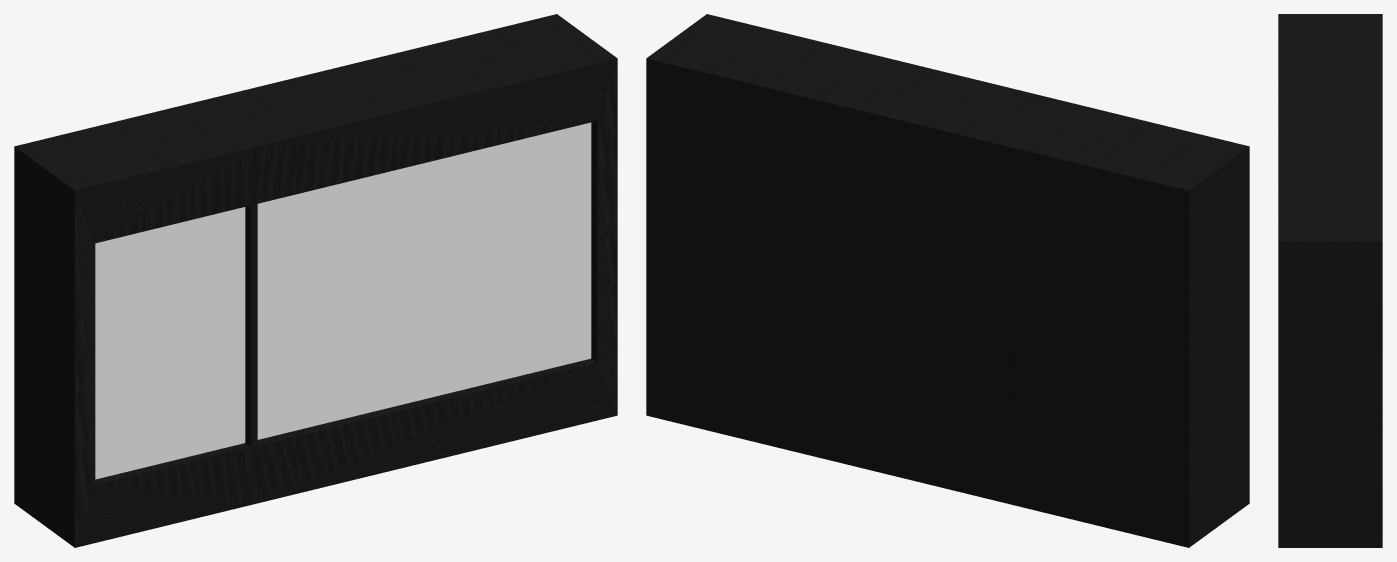
File: Video tape cassette.FBX
3 views of the same model, side by side, from view 1: azimuth 30°, elevation 25°; view 2: azimuth 150°, elevation 25°; view 3: azimuth 270°, elevation 25° (orthographic). The views are drawn at different scales.
Parts seen in each view (by area): view 1: Video tape cassette; view 2: Video tape cassette; view 3: Video tape cassette.
Boxes of the visible parts, bbox=[...] form: Video tape cassette: bbox=[14, 14, 617, 547]; Video tape cassette: bbox=[646, 14, 1249, 547]; Video tape cassette: bbox=[1278, 14, 1382, 547].
Bounding box in the file's own units: 14.9 × 9.38 × 2.88.
2 materials, 1 textured.
